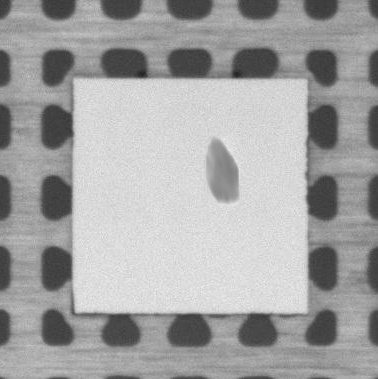DIE_INK: (203, 139, 243, 204)
